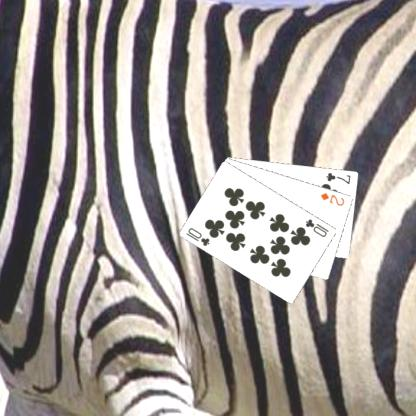10C: (184, 224, 212, 247), (303, 216, 330, 238)
2D: (318, 190, 346, 207)
7C: (324, 170, 352, 186)
